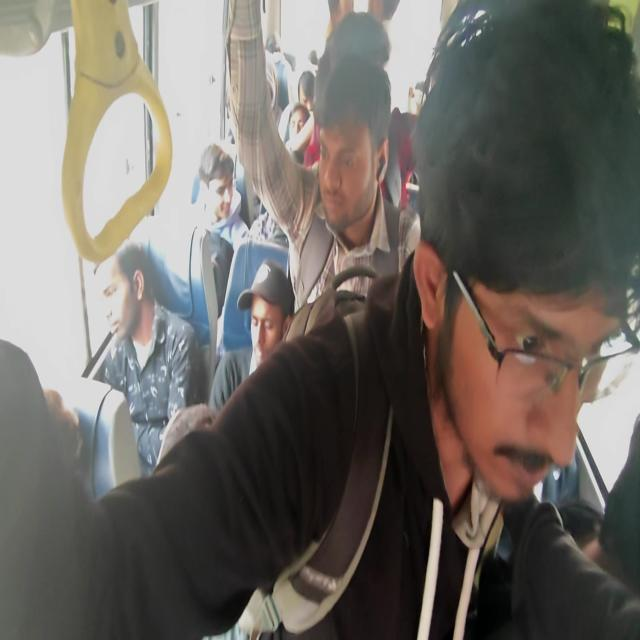person: (433, 39, 617, 498), (158, 416, 270, 601), (5, 428, 109, 552), (90, 251, 164, 341), (331, 102, 388, 216), (259, 180, 311, 256), (244, 277, 280, 380), (204, 143, 240, 226), (238, 61, 282, 121), (284, 93, 318, 166), (339, 22, 382, 70), (300, 73, 320, 104), (308, 49, 324, 72), (267, 36, 278, 49)
